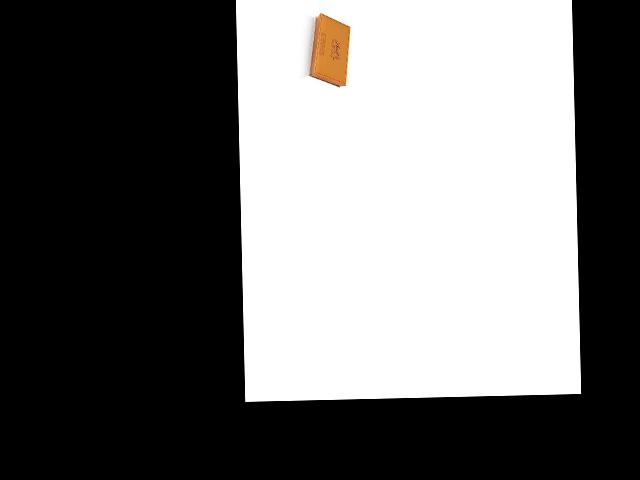chocolate: (301, 13, 354, 89)
